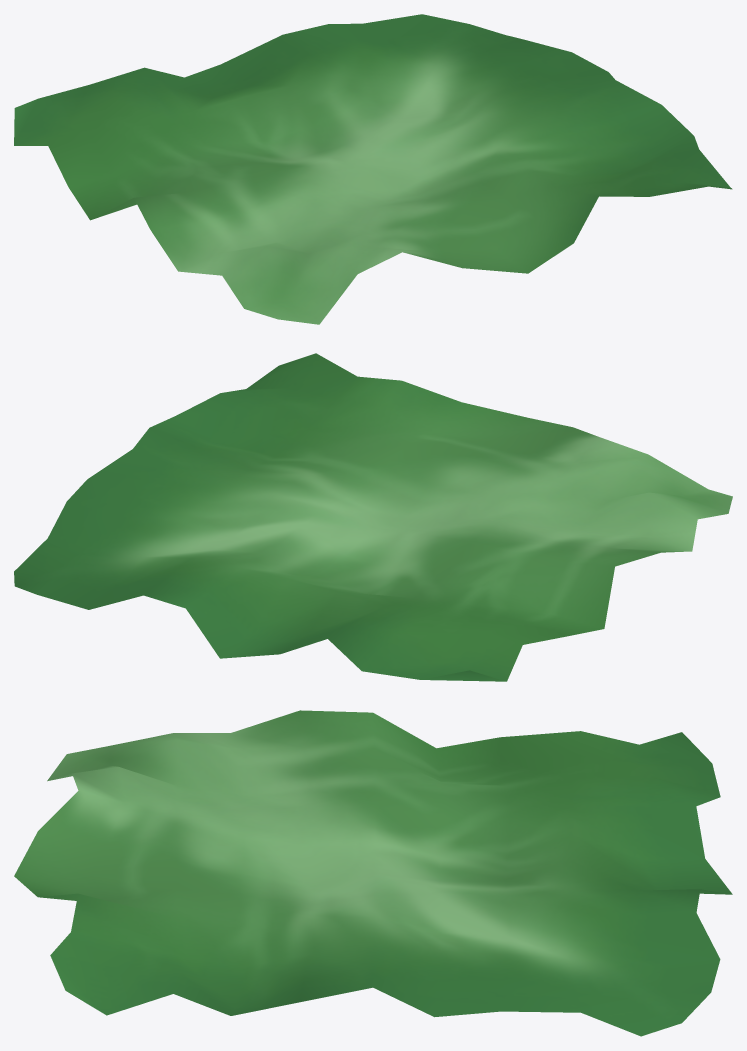
Rendered from ING_lettuceSliceV02.fbx.
3 renders of one model, top to bottom at view 1: azimuth 30°, elevation 25°; view 2: azimuth 150°, elevation 25°; view 3: azimuth 270°, elevation 25°, orthographic. The views are drawn at different scales.
Parts seen in each view (by area): view 1: TOP_Lettuce; view 2: TOP_Lettuce; view 3: TOP_Lettuce.
Boxes of the visible parts, x1,y1,x2,y2 form: TOP_Lettuce: [14, 14, 732, 324]; TOP_Lettuce: [14, 353, 732, 681]; TOP_Lettuce: [14, 710, 732, 1036].
Size of the model in its own units: 33.13 by 3.09 by 34.08.
